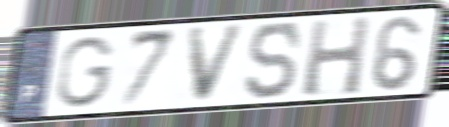6: (368, 13, 422, 94)
7: (121, 25, 179, 111)
G: (55, 34, 119, 110)
H: (300, 13, 373, 99)
S: (244, 19, 304, 102)
V: (186, 21, 249, 106)
